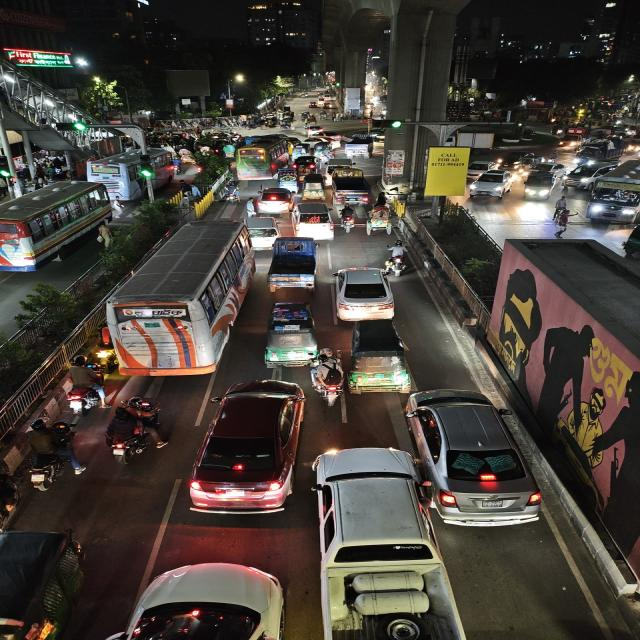bicycle: (551, 200, 564, 223)
bus: (106, 219, 252, 381), (0, 180, 116, 274), (100, 148, 176, 194), (584, 174, 640, 226), (234, 133, 291, 179)
car: (308, 443, 457, 639), (400, 383, 545, 531), (188, 377, 311, 517), (120, 560, 296, 640), (329, 265, 398, 323), (292, 200, 336, 242), (520, 166, 564, 202), (468, 168, 517, 200), (250, 186, 294, 217), (564, 162, 614, 188), (247, 213, 280, 249), (293, 158, 322, 172), (321, 130, 346, 144), (303, 124, 326, 136)
cng: (0, 527, 91, 639), (346, 319, 414, 395), (262, 300, 320, 368), (292, 144, 311, 158), (314, 144, 326, 156)
motorcycle: (102, 396, 166, 466), (21, 416, 78, 492), (56, 355, 109, 418), (308, 350, 344, 410), (383, 239, 412, 275), (338, 201, 357, 233), (220, 177, 241, 204)
pedestrian: (556, 212, 576, 240)
pickup_van: (265, 235, 321, 293), (329, 162, 373, 205), (574, 142, 627, 161), (342, 134, 377, 157)
rickshaw: (362, 205, 393, 237), (301, 173, 326, 201)
